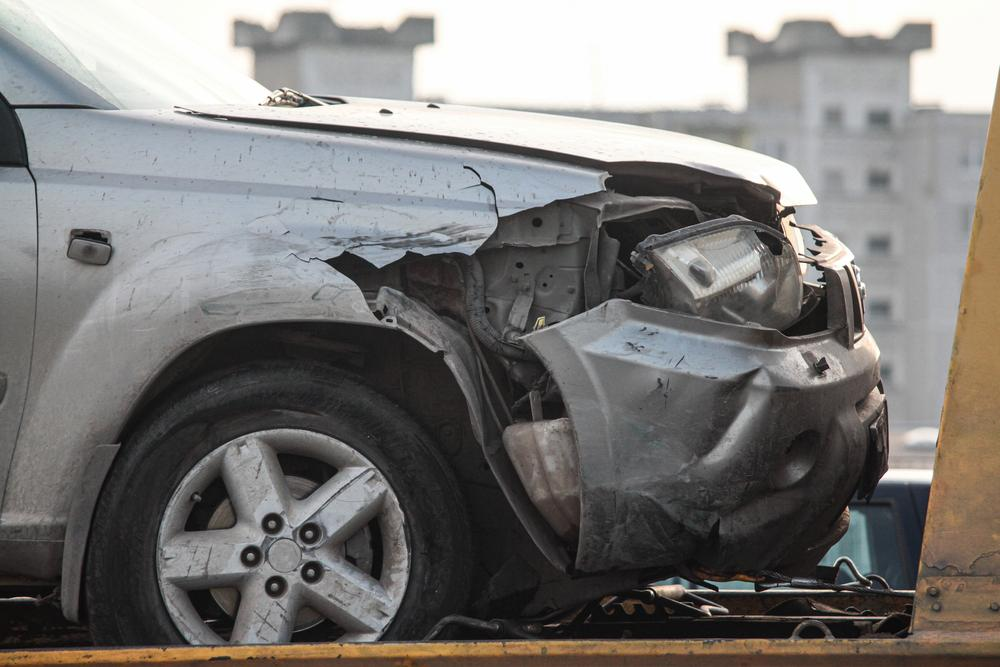crack: (453, 165, 500, 217)
dent: (696, 367, 771, 462)
lamp broken: (648, 220, 804, 329)
scratch: (318, 222, 492, 248)
